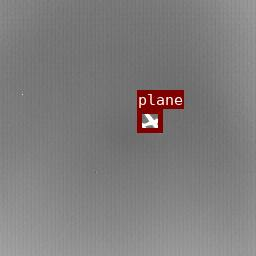plane: (137, 109, 162, 132)
